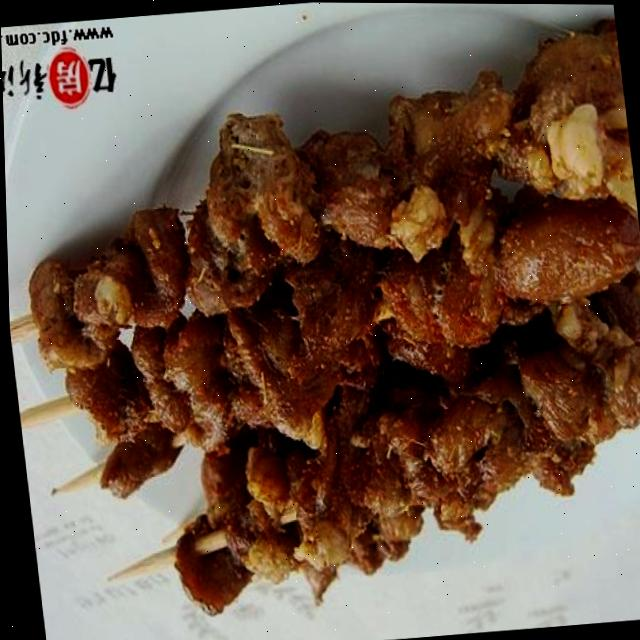烧串烤肉: (1, 25, 640, 640)
